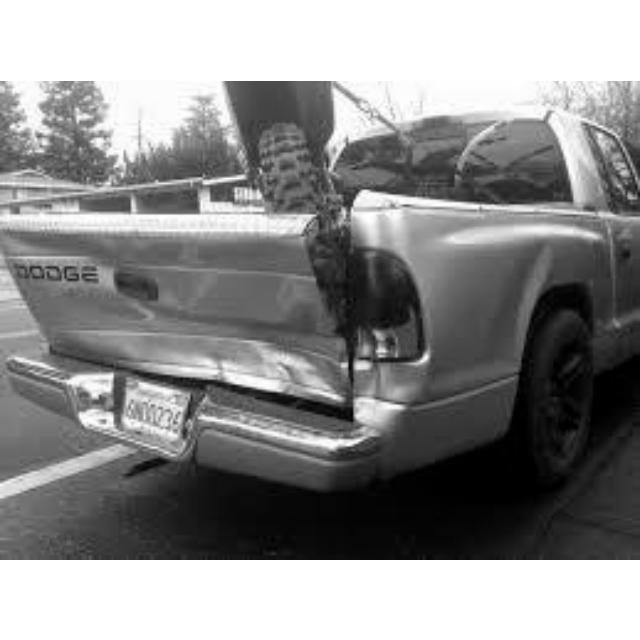boot-dent: (85, 238, 354, 406)
quaterpanel-dent: (384, 184, 623, 344)
